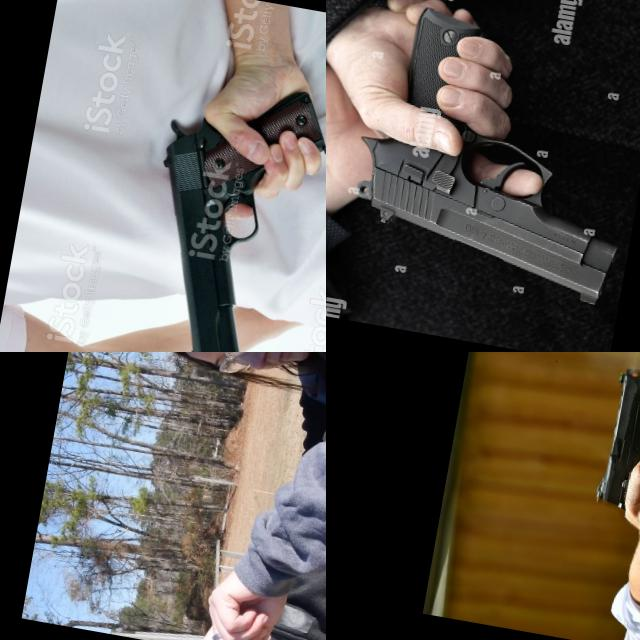handgun: (331, 0, 640, 312), (125, 65, 326, 352), (591, 363, 640, 531)
